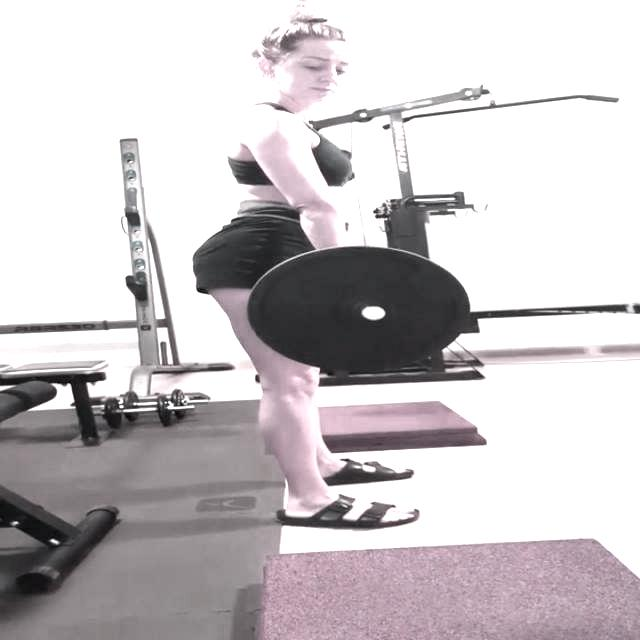barbell: (241, 240, 477, 377)
